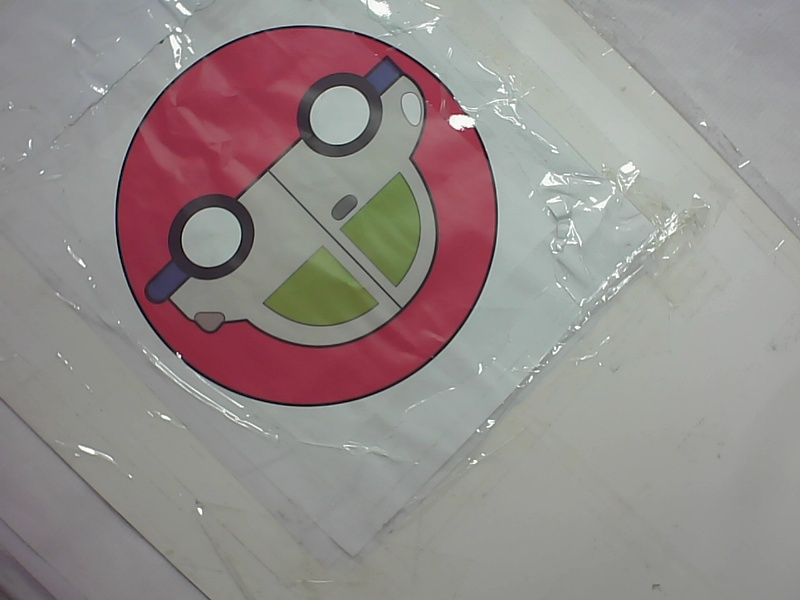areaC: (103, 24, 507, 417)
